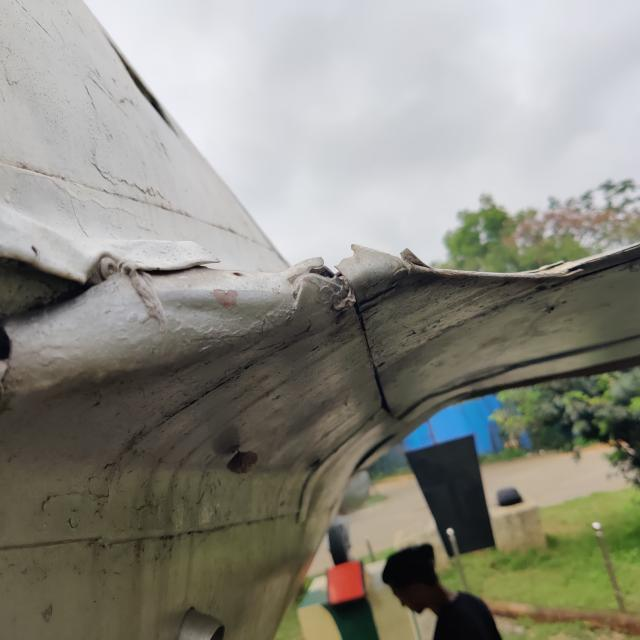Crack: (312, 266, 357, 312), (401, 249, 434, 270)
